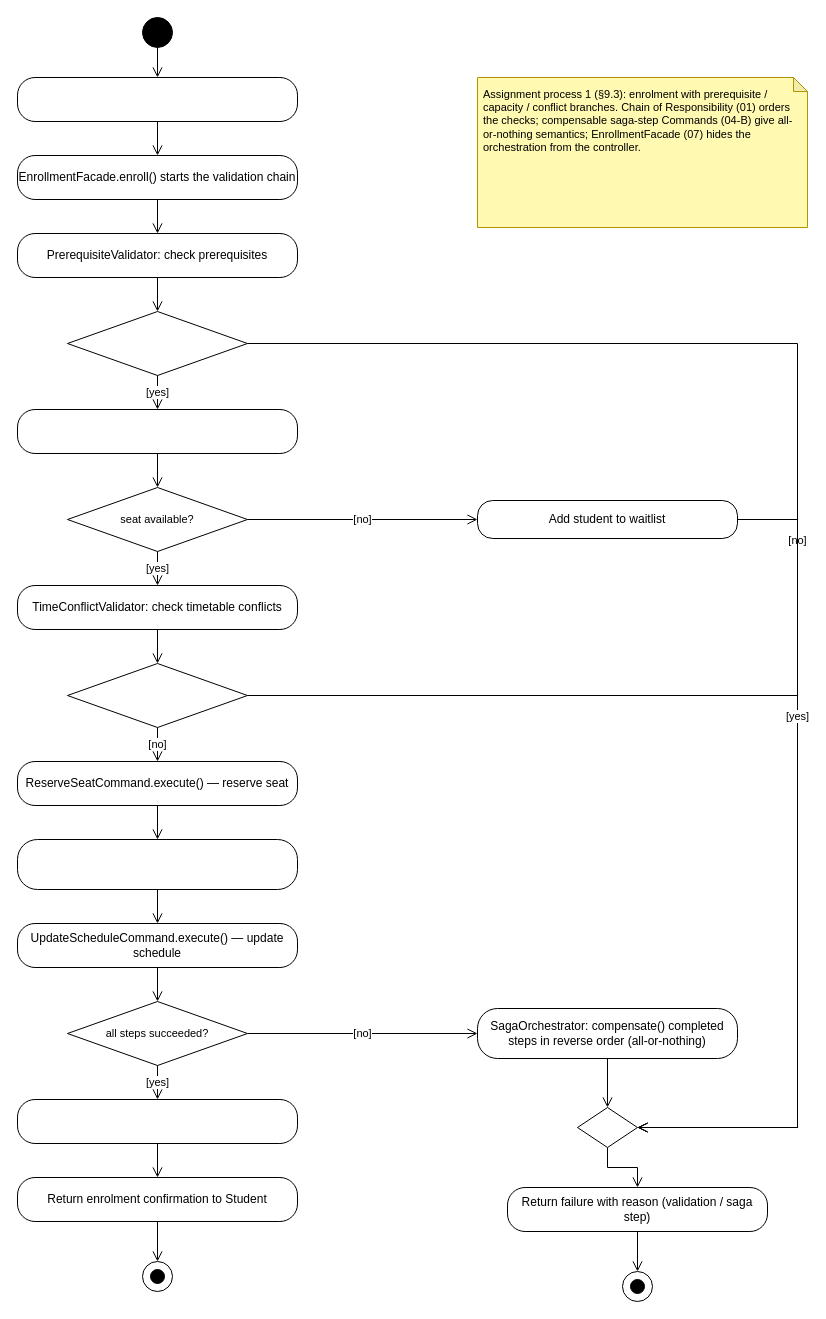
The diagram is 826 pixels wide and 1319 high, and some of its shapes have lost their labels. The shapes that lost their labels are listed below. From the top down, each one's centre as x and y in pixels, then its label:
the point at 157,99: Student submits enrolment request (studentId, offeringId)
the point at 157,343: prerequisites met?
the point at 157,431: CapacityValidator: check seat availability
the point at 157,695: conflict found?
the point at 157,864: CreateEnrollmentCommand.execute() — create enrolment record
the point at 157,1121: Publish EnrollmentConfirmed event (EventPublisher)
